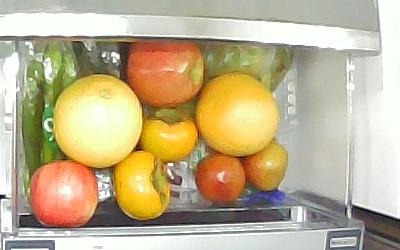apple: (127, 41, 204, 106), (29, 160, 100, 228)
grapefruit: (54, 73, 142, 168), (196, 71, 279, 156)
persimmon: (114, 151, 172, 220), (140, 110, 199, 161)
prune: (195, 153, 246, 204), (245, 141, 288, 192)
